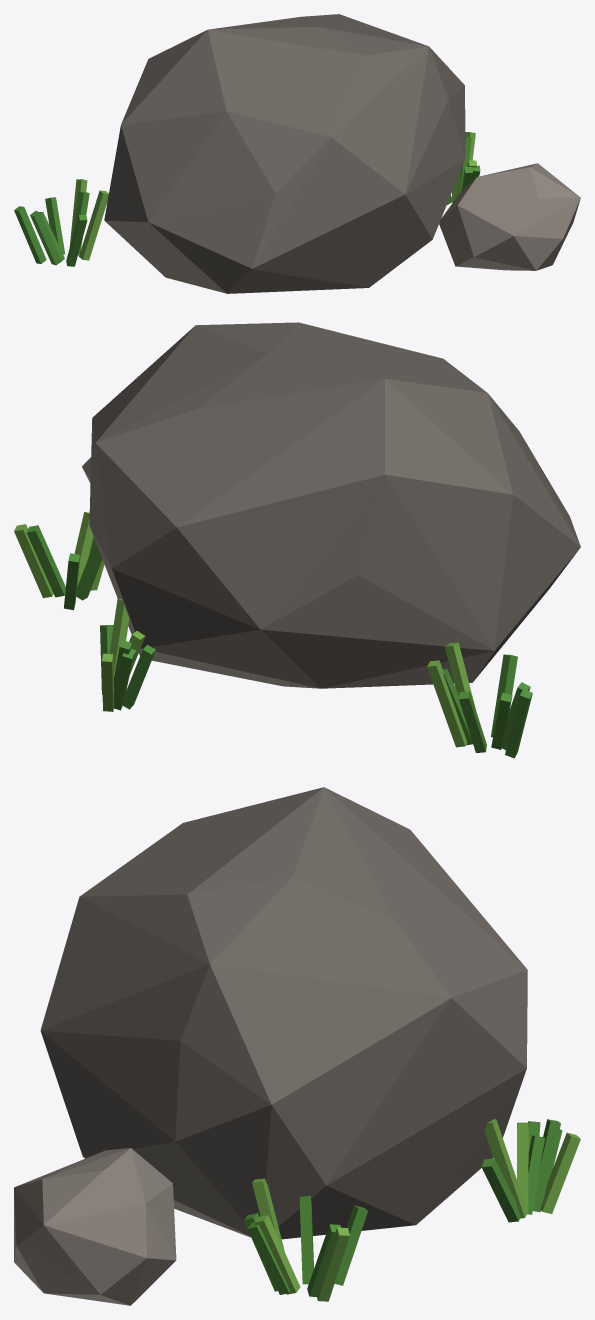
The model's file is rocher_prairie_1.glb.
3 views of the same model, one above another, from view 1: azimuth 30°, elevation 25°; view 2: azimuth 150°, elevation 25°; view 3: azimuth 270°, elevation 25° (orthographic). The views are drawn at different scales.
Visible parts, largest first — view 1: roche_pierre.012, roche_pierre_claire.006, herbe_feuille.004, herbe_feuille_claire.002; view 2: roche_pierre.012, herbe_feuille.004, herbe_feuille_claire.002; view 3: roche_pierre.012, roche_pierre_claire.006, herbe_feuille.004, herbe_feuille_claire.002.
Boxes of the visible parts, <box> form: roche_pierre.012: <box>104,14,465,293</box>; roche_pierre_claire.006: <box>439,163,580,270</box>; herbe_feuille.004: <box>14,137,480,266</box>; herbe_feuille_claire.002: <box>69,132,476,260</box>; roche_pierre.012: <box>89,322,580,688</box>; herbe_feuille.004: <box>26,525,532,758</box>; herbe_feuille_claire.002: <box>14,512,475,747</box>; roche_pierre.012: <box>40,787,527,1239</box>; roche_pierre_claire.006: <box>14,1148,176,1305</box>; herbe_feuille.004: <box>244,1119,562,1296</box>; herbe_feuille_claire.002: <box>252,1119,580,1301</box>.
Size of the model in its own units: 1.14 by 0.5622 by 0.8694.
